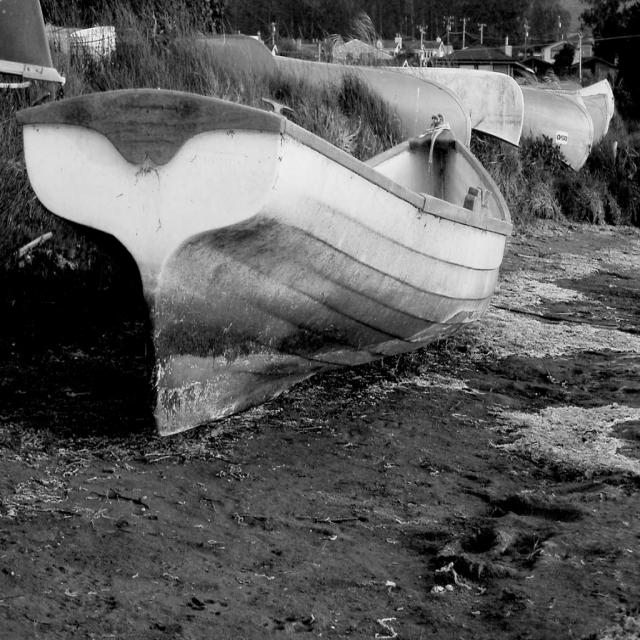Boat: (15, 72, 527, 418)
